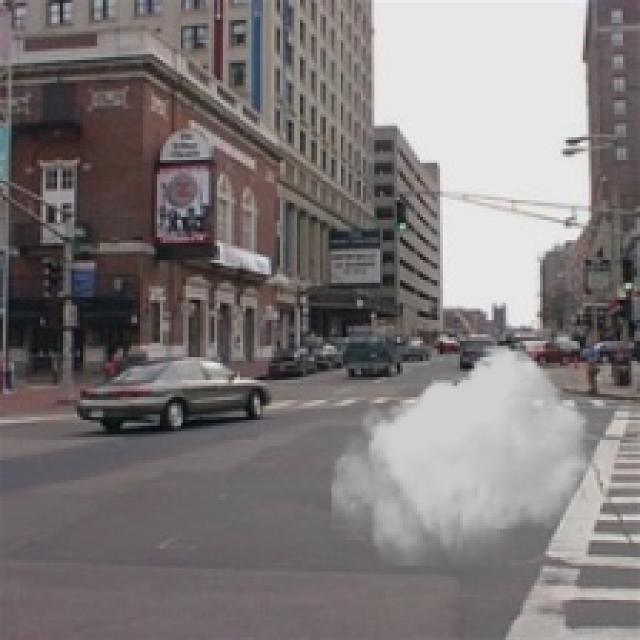smoke: (332, 348, 592, 566)
